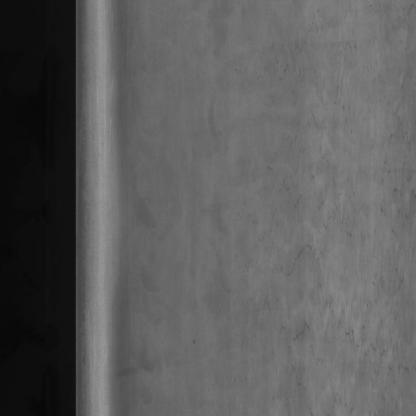silk_spot: (280, 217, 367, 359), (298, 101, 349, 181)
